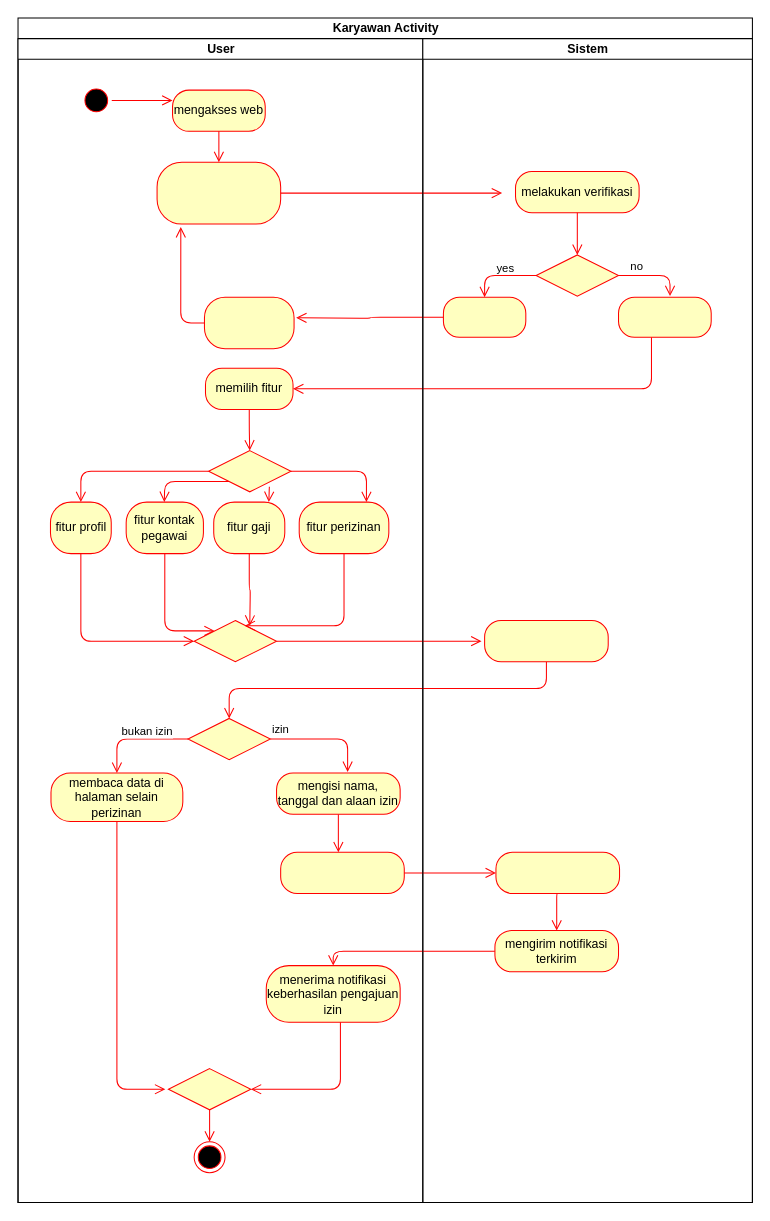
Image size: 770x1221. Some labels were removed from this diagram. Here are the shapes that lost their labels. From the top down, the box of each, then its label:
(156, 161, 281, 224): melakukan login dengan memasukkan username dan password
(203, 296, 294, 349): menerima pesan error
(442, 296, 526, 337): memberikan pesan error
(617, 296, 711, 337): menampilkan beranda
(484, 620, 608, 662): menampilkan halaman
(280, 851, 404, 894): mengklik tombol kirim
(495, 851, 620, 894): mengirim email notifikasi ke admin
